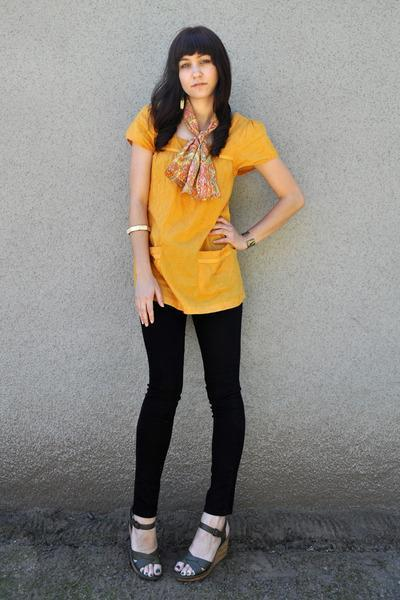pants: (130, 301, 244, 528)
shirt: (127, 109, 275, 314)
shoe: (126, 522, 241, 584)
